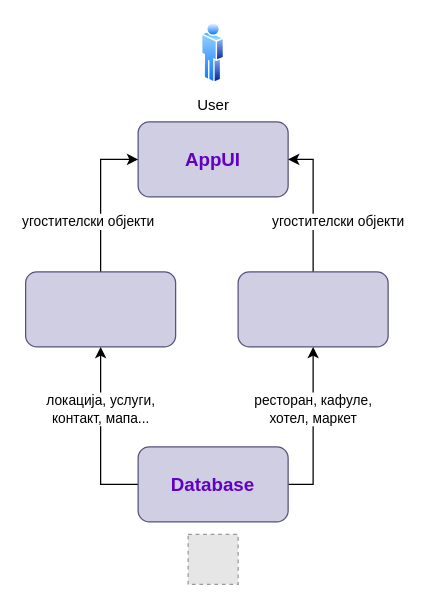
The diagram is 425 pixels wide and 606 high, and some of its shapes have lost their labels. Grey dashed boxes stand in for pictures. The centre of each missing label's shape, as x and y in pixels:
Information Service: the point at 100,309
Search Service: the point at 312,309
